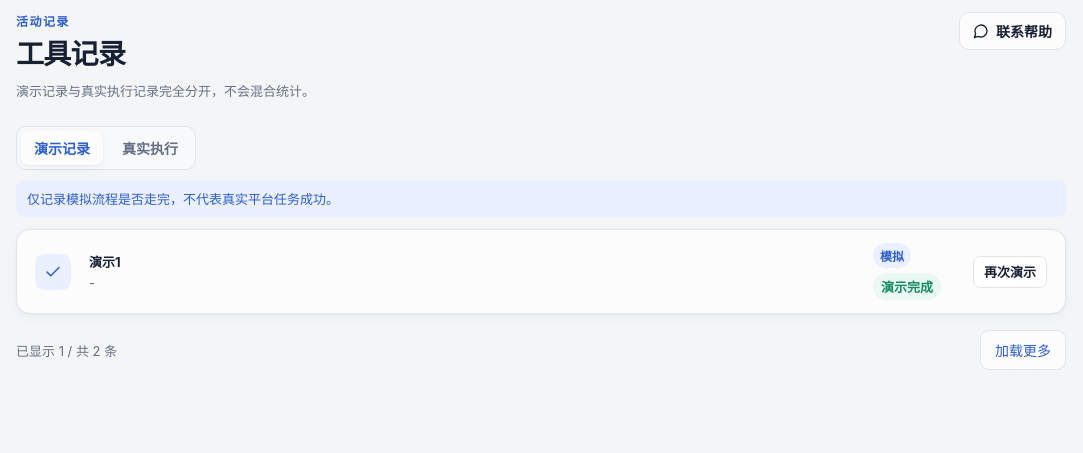
Test: user paginated history › keeps existing rows on an append failure and retries the same page
Click the button "加载更多": (1023, 350) 980,330 -> 1066,370
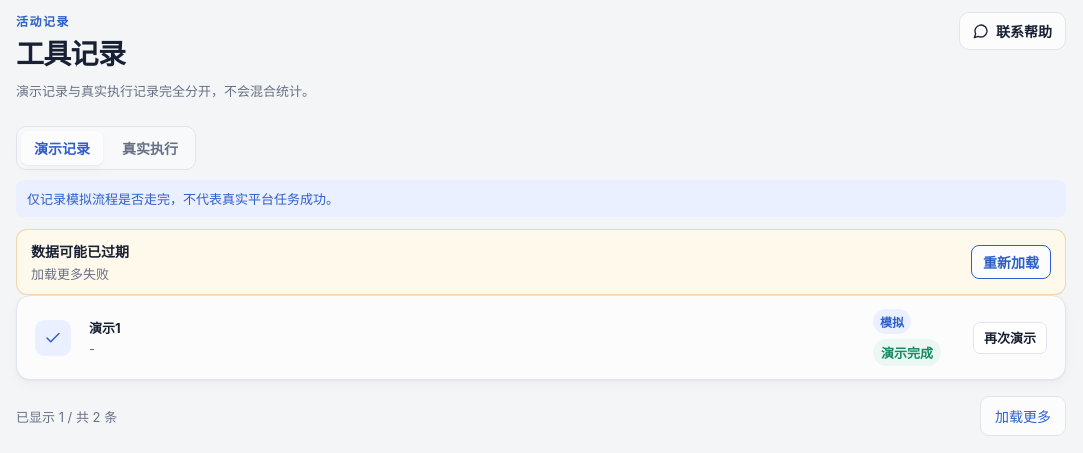
Check: the number of elements with class "record-row" is 1, box 17,296 -> 1065,379
Check: the text "加载更多失败" is shown, box 31,266 -> 109,282
Click the button "加载更多": (1023, 416) 980,396 -> 1066,436
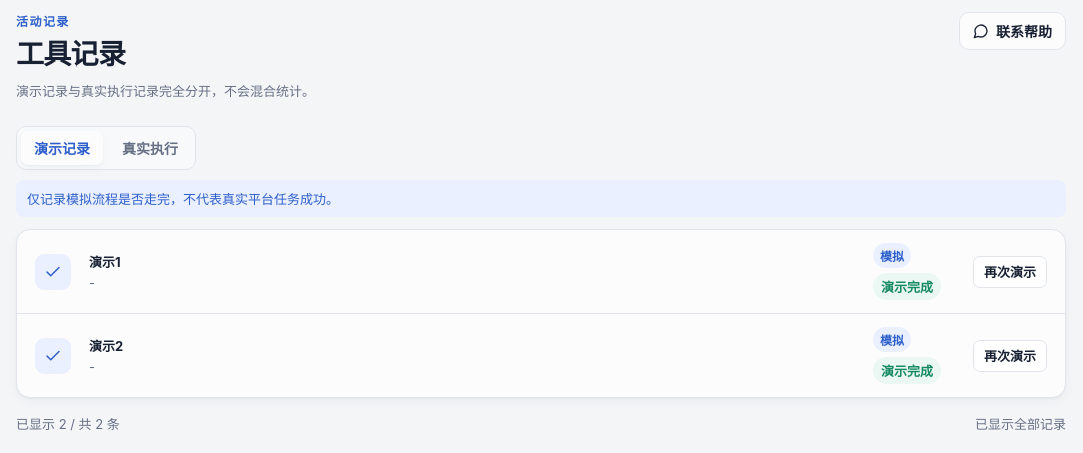
Check: the number of elements with class "record-row" is 2, box 17,230 -> 1065,314; 17,314 -> 1065,397
